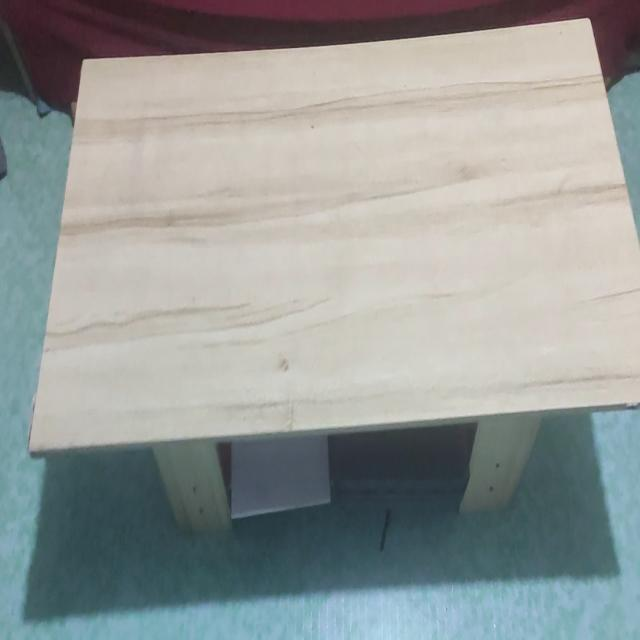table: (28, 16, 640, 542)
